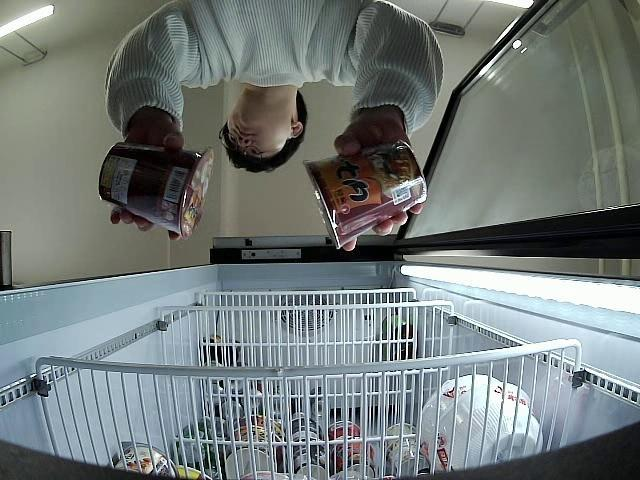06_nuguri_S: (304, 142, 426, 250), (98, 140, 214, 241)
